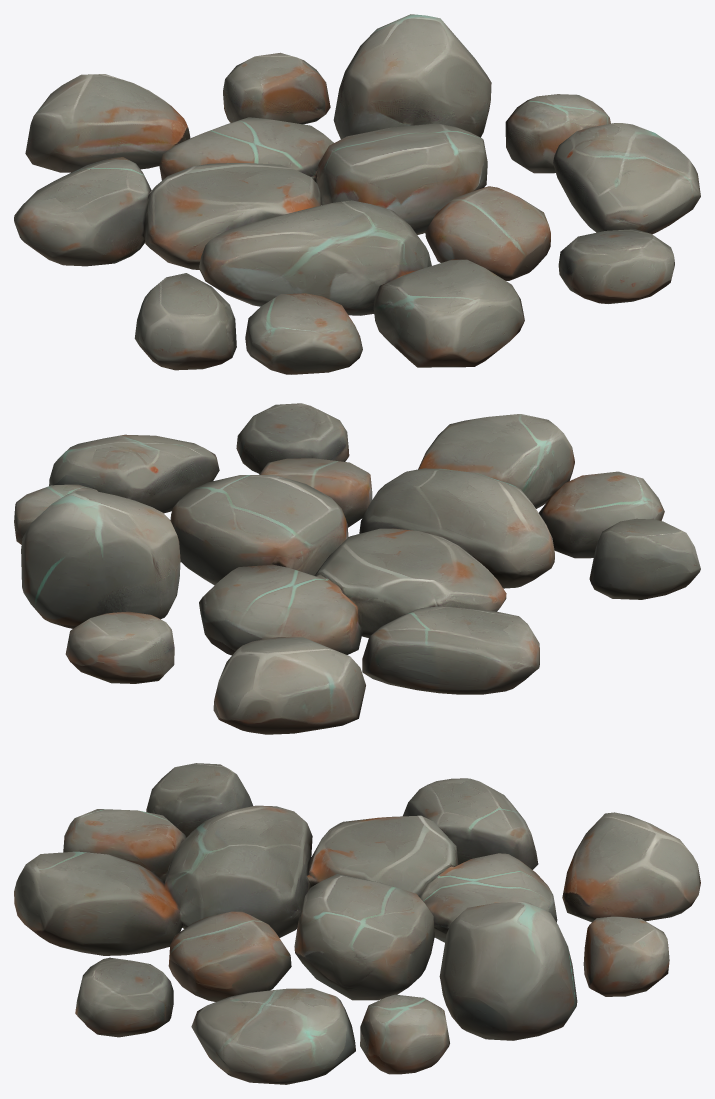
The picture shows the model from 3 angles, top to bottom: view 1: azimuth 30°, elevation 25°; view 2: azimuth 150°, elevation 25°; view 3: azimuth 270°, elevation 25°; orthographic projection. The views are drawn at different scales.
Bounding box in the file's own units: 1.93 × 0.3766 × 2.
1 material, 1 textured.
